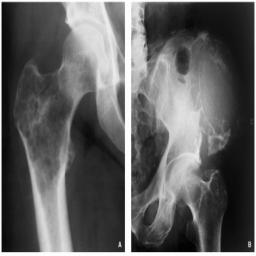cancer: (12, 52, 101, 192), (191, 37, 248, 160), (187, 169, 228, 246)
